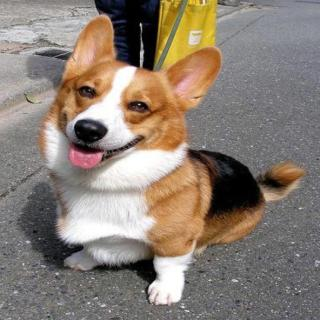dog: (38, 18, 210, 189)
nose: (70, 114, 109, 146)
